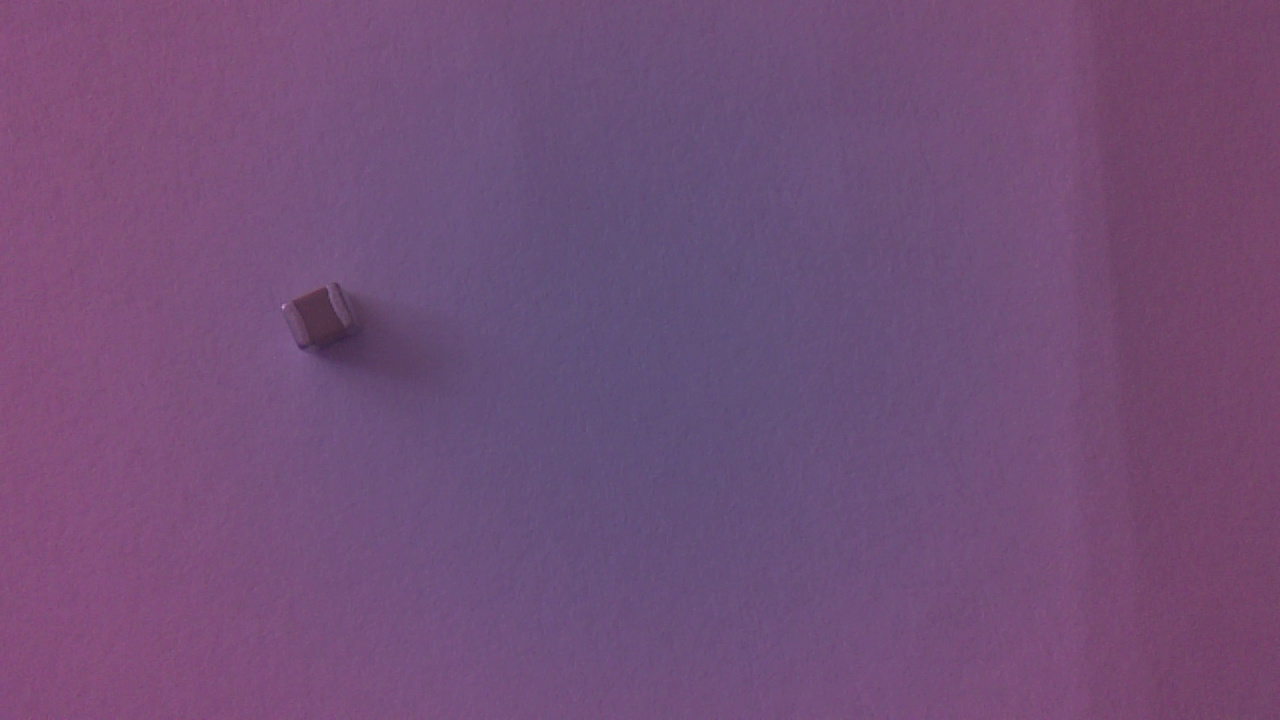Condensator: (281, 281, 365, 362)
